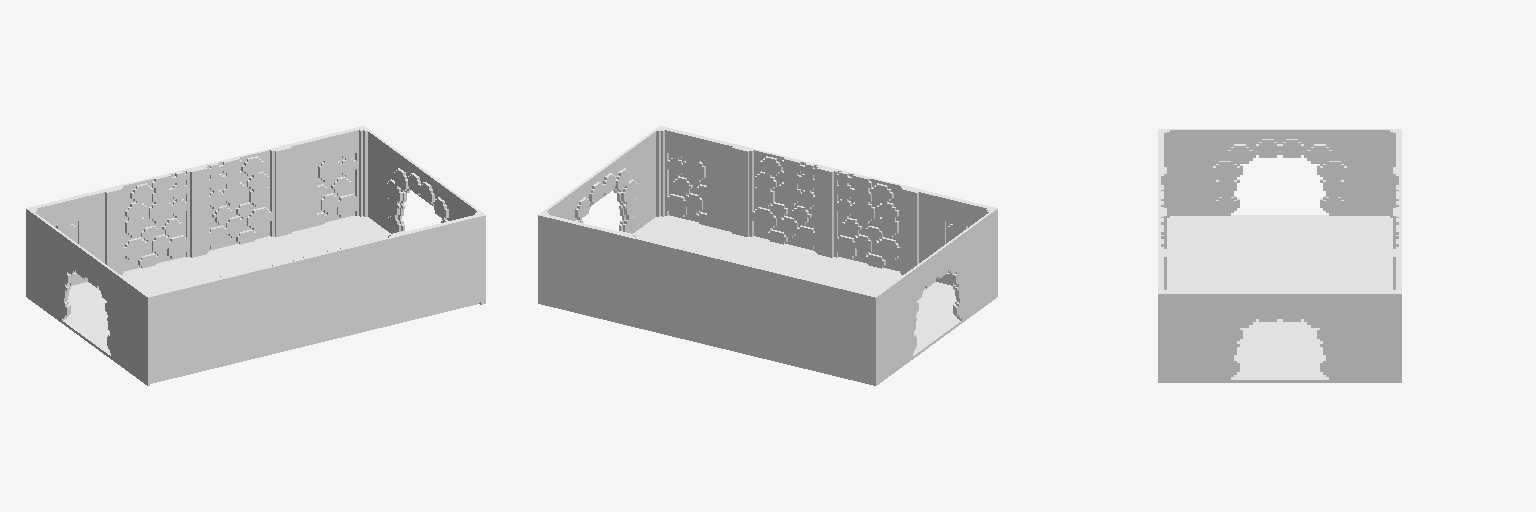
The model's file is catacombs_room.vox.obj.
The picture shows the model from 3 angles: view 1: azimuth 30°, elevation 25°; view 2: azimuth 150°, elevation 25°; view 3: azimuth 270°, elevation 25°; orthographic projection.
Visible parts, largest first — view 1: object 1; view 2: object 1; view 3: object 1.
Boxes of the visible parts, box(x1,y1,x2,y2) form: object 1: box(26, 126, 485, 385); object 1: box(538, 126, 997, 385); object 1: box(1158, 129, 1401, 382).
Bounding box in the file's own units: 12.8 × 3.2 × 8.